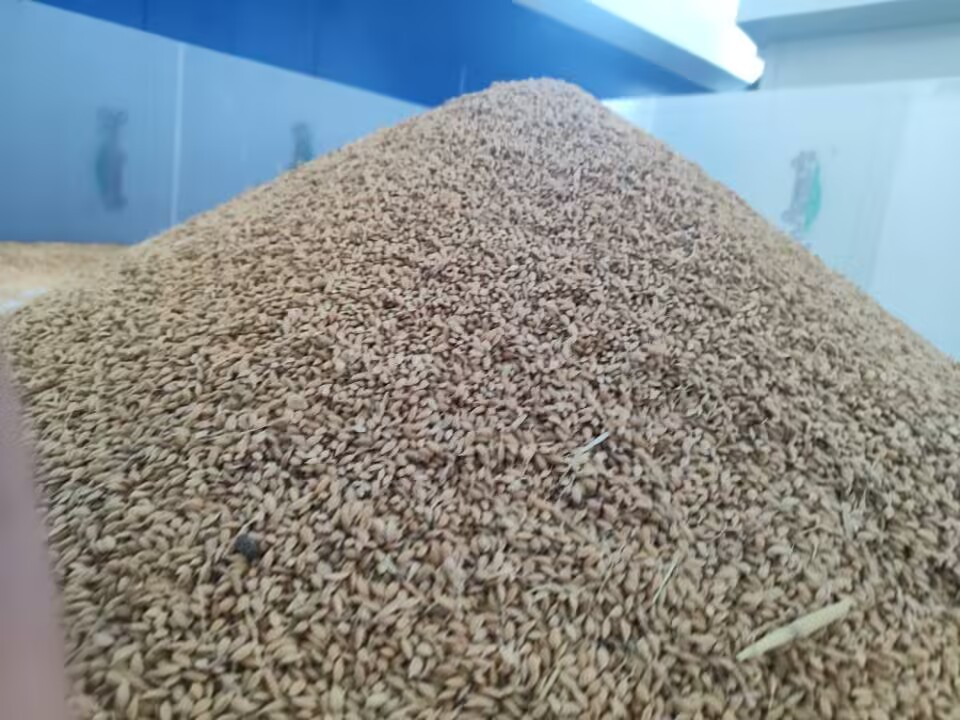Grain: (61, 72, 951, 685)
